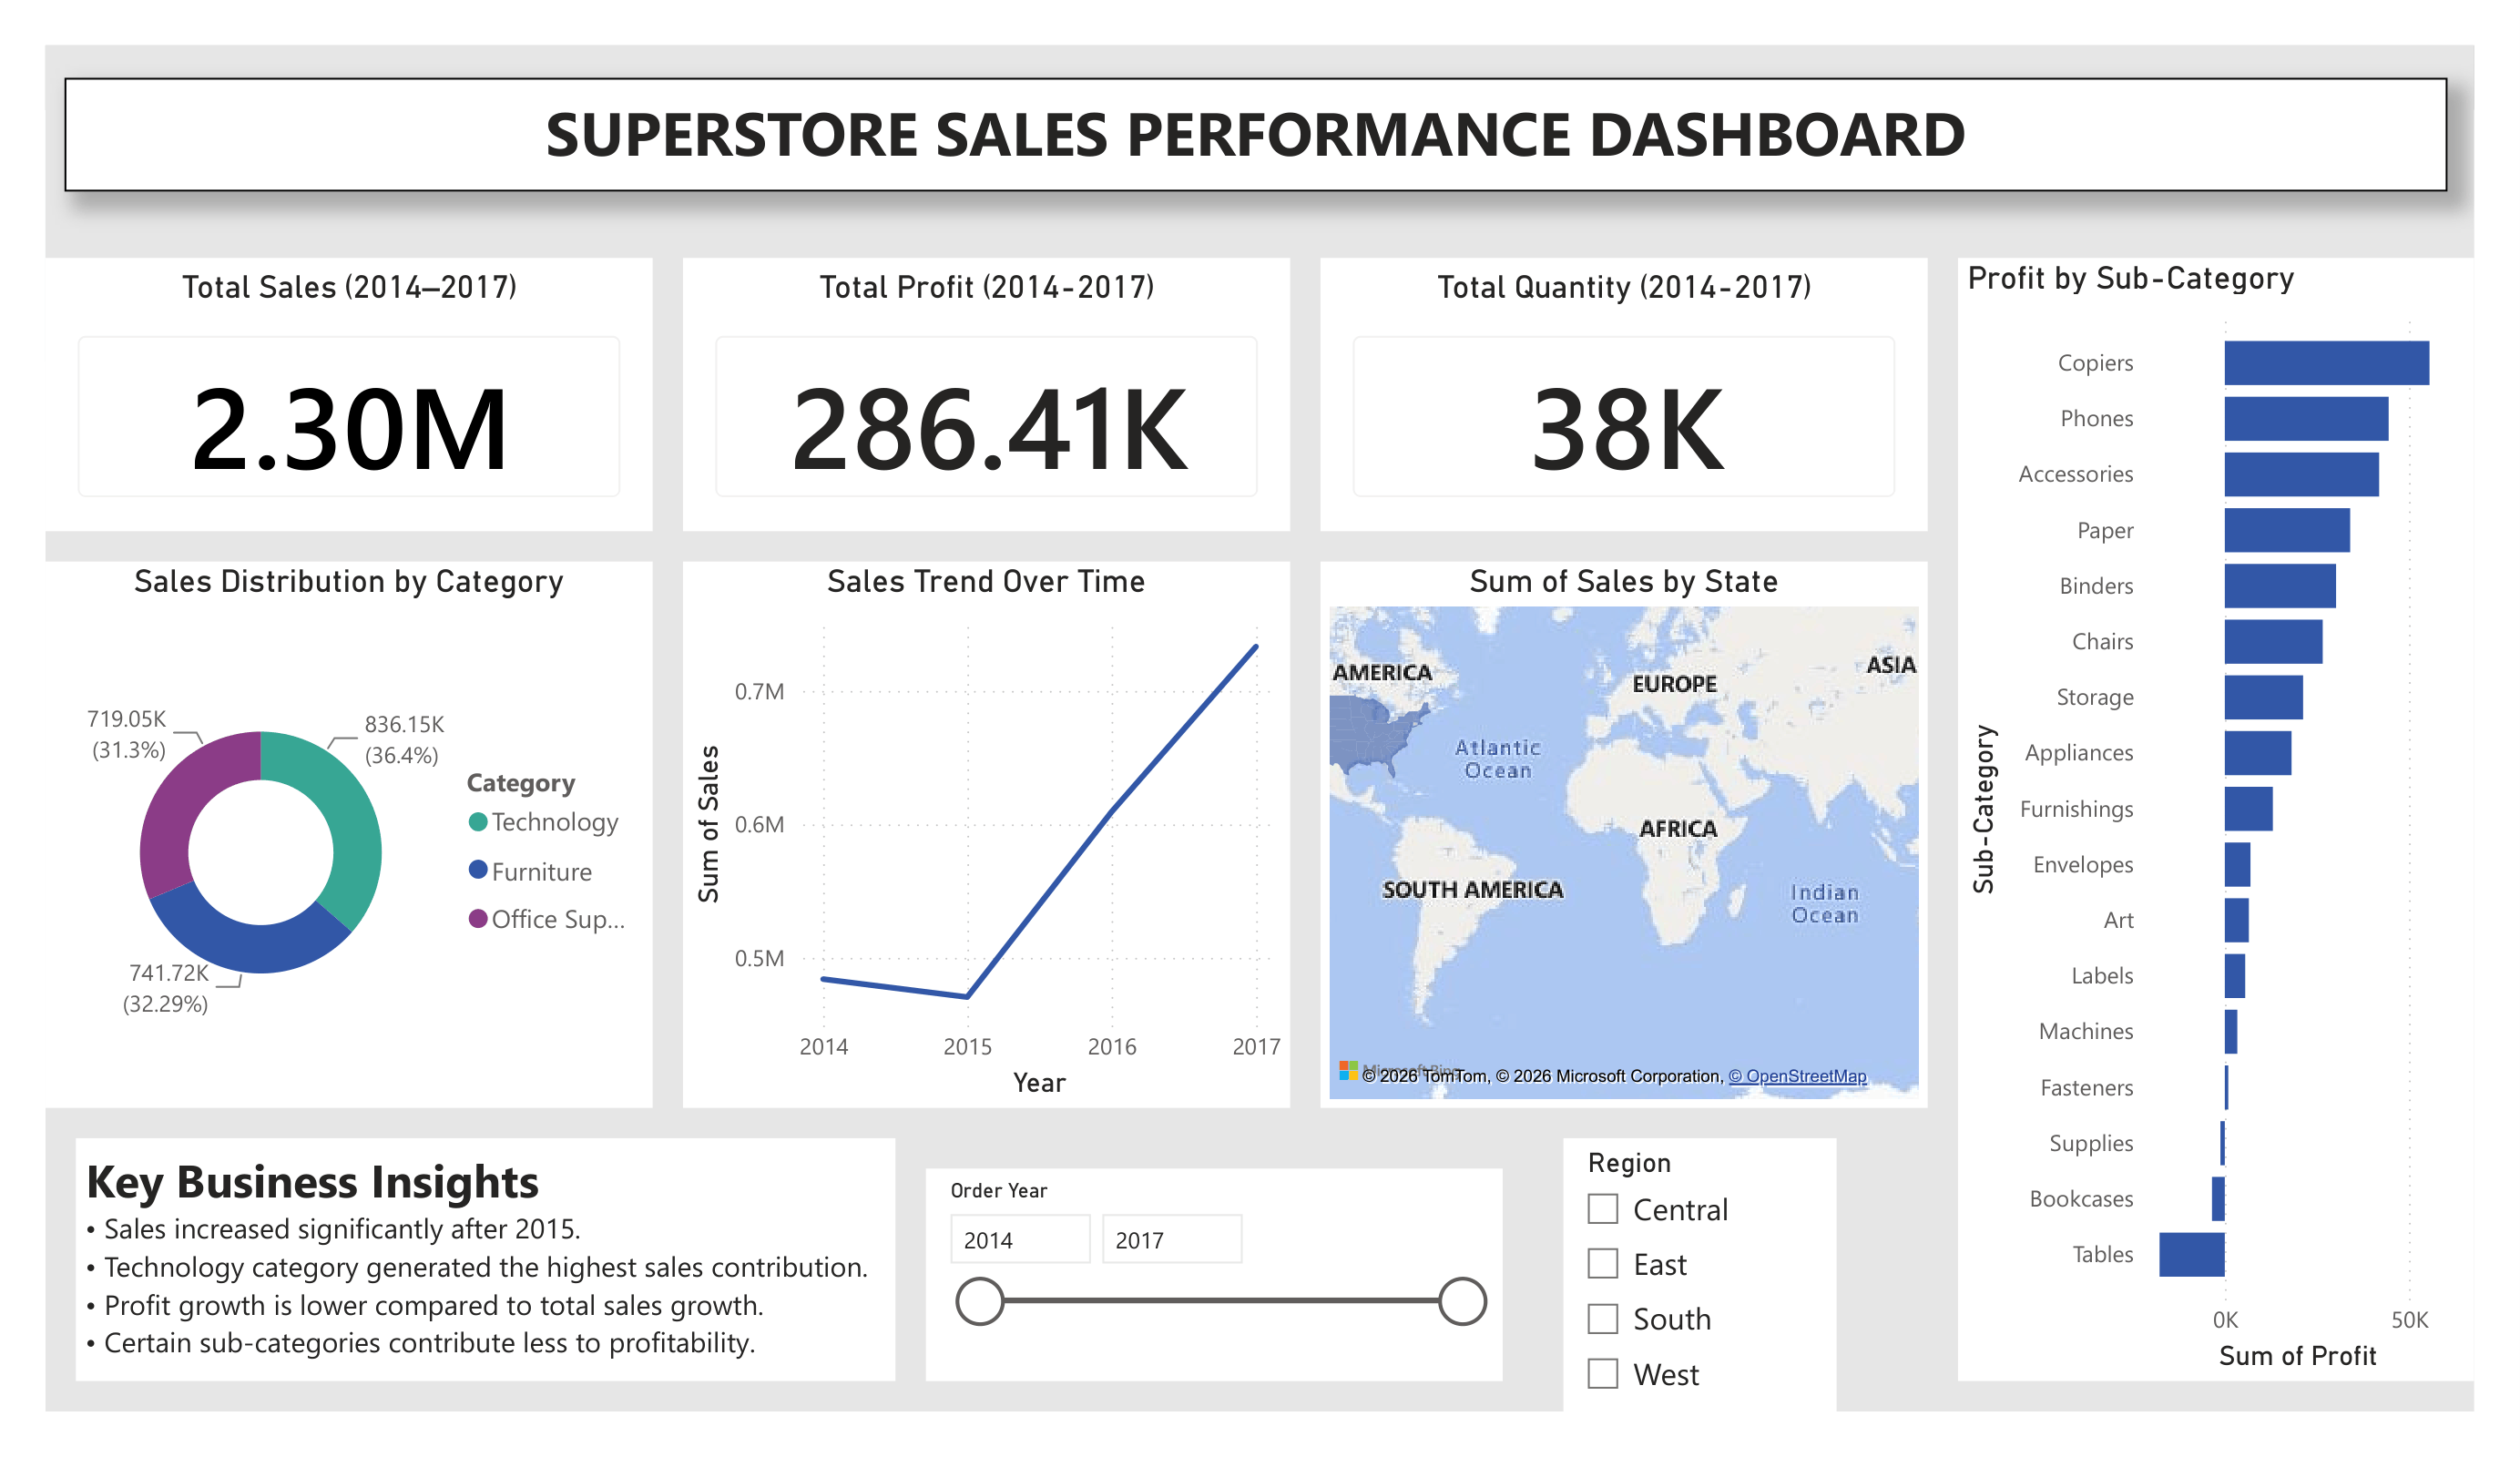

The page's visual inventory and layout, read from the dashboard file:
{"tool":"powerbi","page":{"name":"Page 1","canvas":[1280,720],"ordinal":0},"visuals":[{"type":"donutChart","title":"Sales Distribution by Category","fields":{"Category":["cleaned_superstore.Category"],"Y":["Sum(cleaned_superstore.Sales)"]},"box":[0,272,320,288],"z":0},{"type":"lineChart","title":"Sales Trend Over Time","fields":{"Category":["cleaned_superstore.Order Date.Variation.Date Hierarchy.Year","cleaned_superstore.Order Date.Variation.Date Hierarchy.Quarter","cleaned_superstore.Order Date.Variation.Date Hierarchy.Month","cleaned_superstore.Order Date.Variation.Date Hierarchy.Day"],"Y":["Sum(cleaned_superstore.Sales)"]},"box":[336,272,320,288],"z":1000},{"type":"filledMap","fields":{"Category":["cleaned_superstore.State"]},"box":[672,272,320,288],"z":2000},{"type":"clusteredBarChart","title":"Profit by Sub-Category","fields":{"Category":["cleaned_superstore.Sub-Category"],"Y":["Sum(cleaned_superstore.Profit)"]},"box":[1008,112,272,592],"z":3000},{"type":"slicer","fields":{"Values":["cleaned_superstore.Region"]},"box":[800,576,144,144],"z":4000},{"type":"slicer","fields":{"Values":["cleaned_superstore.Order Year"]},"box":[464,592,304,112],"z":5000},{"type":"cardVisual","title":"Total Sales (2014–2017)","fields":{"Data":["Sum(cleaned_superstore.Sales)"]},"box":[0,112,320,144],"z":6000},{"type":"cardVisual","title":"Total Profit (2014-2017)","fields":{"Data":["Sum(cleaned_superstore.Profit)"]},"box":[336,112,320,144],"z":7000},{"type":"cardVisual","title":"Total Quantity (2014-2017)","fields":{"Data":["Sum(cleaned_superstore.Quantity)"]},"box":[672,112,320,144],"z":8000},{"type":"textbox","box":[10.4,16.6,1255.4,60.3],"z":9000},{"type":"textbox","box":[16,576,432,128],"z":10000}]}

Visuals, with their boxes on the page's 1280x720 design canvas (x1, y1, x2, y2). These are canvas units, not pixel positions in the 2520x1457 screenshot, which may show the page scaled, cropped or inside an application window:
"Sales Distribution by Category" donutChart: box(0, 272, 320, 560)
"Sales Trend Over Time" lineChart: box(336, 272, 656, 560)
filledMap - cleaned_superstore.State: box(672, 272, 992, 560)
"Profit by Sub-Category" clusteredBarChart: box(1008, 112, 1280, 704)
slicer - cleaned_superstore.Region: box(800, 576, 944, 720)
slicer - cleaned_superstore.Order Year: box(464, 592, 768, 704)
"Total Sales (2014–2017)" cardVisual: box(0, 112, 320, 256)
"Total Profit (2014-2017)" cardVisual: box(336, 112, 656, 256)
"Total Quantity (2014-2017)" cardVisual: box(672, 112, 992, 256)
textbox: box(10, 17, 1266, 77)
textbox: box(16, 576, 448, 704)
